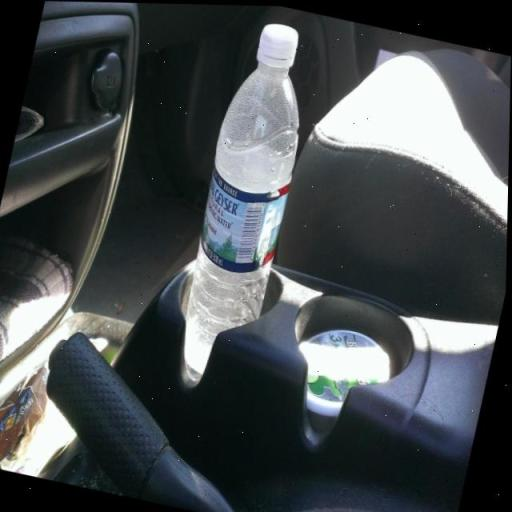plastic: (185, 23, 300, 374)
